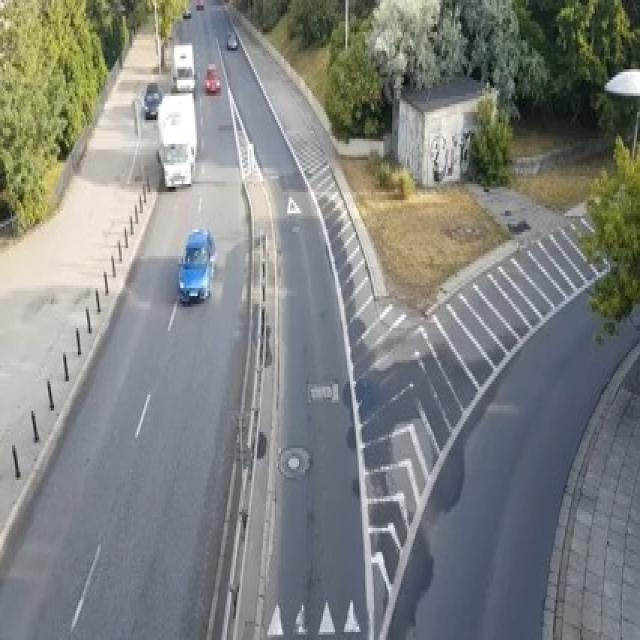bus: (155, 90, 197, 186), (172, 42, 196, 90)
car: (178, 227, 216, 304), (142, 80, 160, 117), (204, 62, 220, 94), (225, 29, 238, 48), (182, 5, 191, 19), (196, 0, 204, 8)
